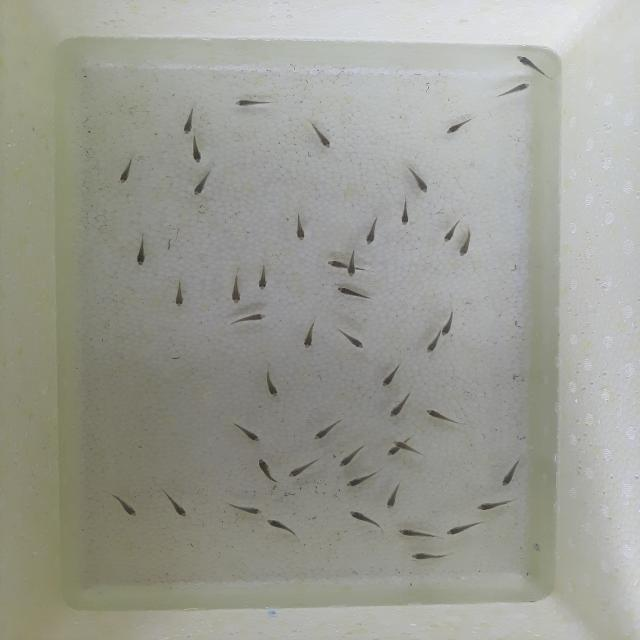fingerling: (308, 120, 336, 154), (423, 406, 461, 430), (515, 56, 549, 80), (228, 261, 244, 308), (327, 258, 368, 276), (408, 165, 432, 195), (227, 310, 272, 326), (163, 492, 189, 519), (494, 82, 532, 100), (134, 232, 152, 270), (407, 549, 450, 564), (188, 136, 208, 168), (290, 210, 308, 244), (438, 215, 459, 244), (335, 329, 364, 350), (336, 286, 374, 302), (310, 422, 340, 442), (386, 480, 406, 510), (112, 498, 139, 520), (287, 460, 320, 478), (364, 213, 381, 247), (338, 448, 365, 469), (343, 475, 378, 491), (388, 396, 411, 420), (498, 462, 518, 487), (438, 314, 458, 338), (236, 426, 261, 444), (193, 172, 212, 195), (258, 458, 276, 482), (378, 366, 396, 389), (264, 376, 282, 399), (447, 524, 481, 536), (442, 121, 466, 138), (266, 518, 297, 531), (458, 233, 474, 258), (232, 99, 272, 109), (398, 200, 412, 228), (349, 510, 375, 525), (477, 504, 513, 514), (346, 243, 356, 279), (119, 162, 134, 185), (400, 529, 438, 538), (178, 114, 195, 134), (258, 261, 268, 295), (422, 336, 438, 356), (303, 325, 316, 349), (173, 282, 185, 308), (230, 506, 267, 514), (384, 445, 409, 456), (391, 439, 416, 448)
